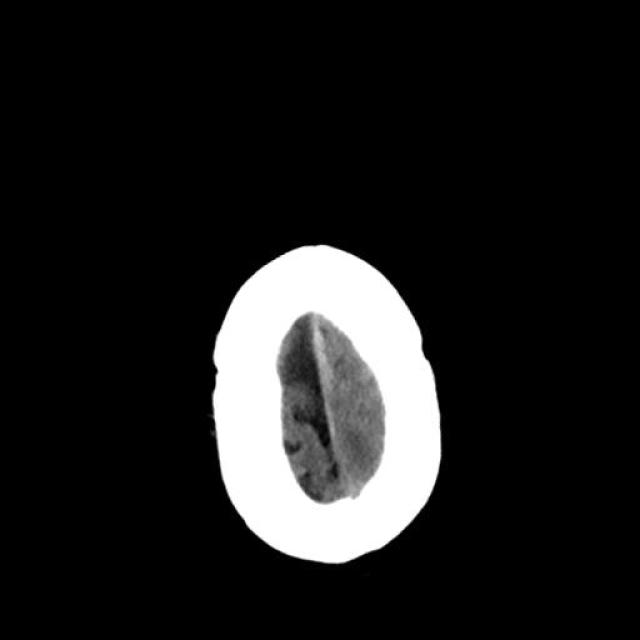Subdural: (286, 290, 364, 420)
